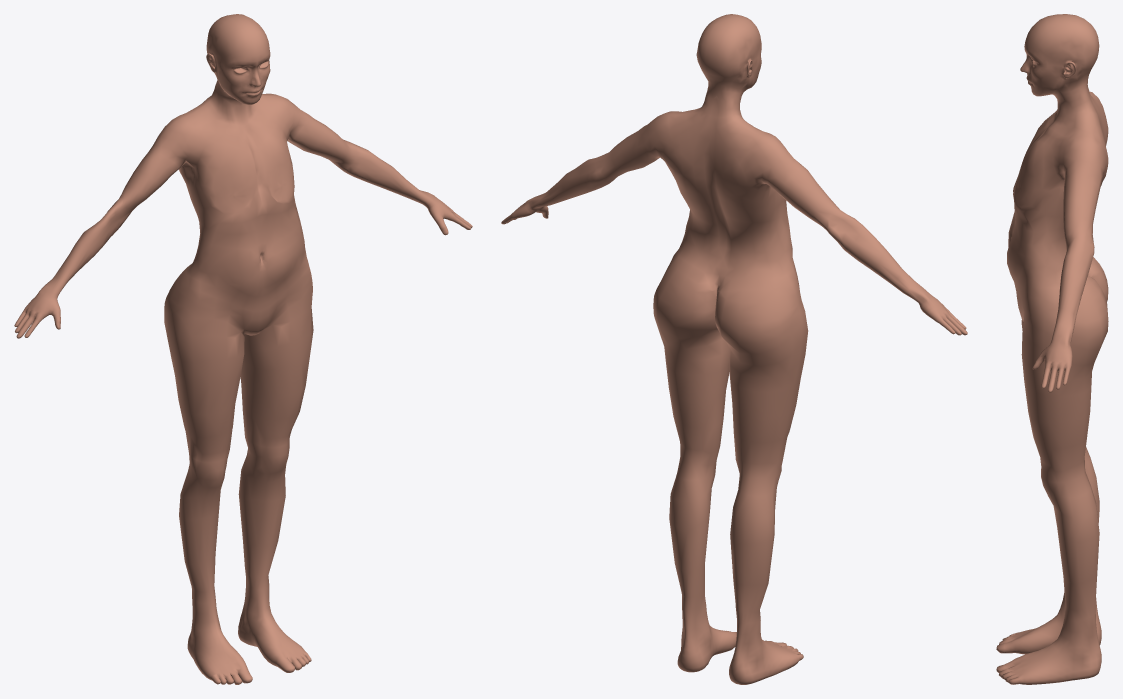
File: wide_body.fbx
The picture shows the model from 3 angles, left to right: view 1: azimuth 30°, elevation 25°; view 2: azimuth 150°, elevation 25°; view 3: azimuth 270°, elevation 25°; orthographic projection.
Visible parts, largest first — view 1: barefoot001; view 2: barefoot001; view 3: barefoot001.
Part boxes in pixels (x1,y1,x2,y2): barefoot001: (14,14,472,684); barefoot001: (501,14,967,684); barefoot001: (996,14,1108,684).
Size of the model in its own units: 10331 by 13810 by 2172.
